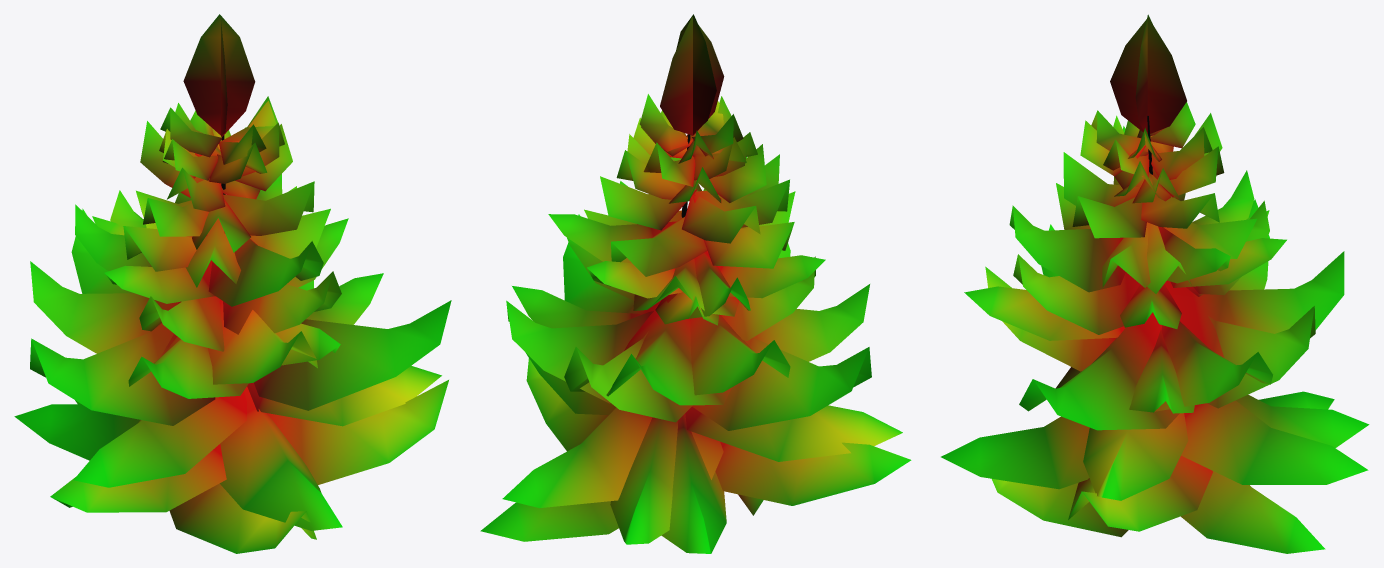
The model's file is Spruce_Small_2_LOD_1.fbx.
3 views of the same model, side by side, from view 1: azimuth 30°, elevation 25°; view 2: azimuth 150°, elevation 25°; view 3: azimuth 270°, elevation 25° (orthographic).
Visible parts, largest first — view 1: Spruce_Small_2_LOD_1; view 2: Spruce_Small_2_LOD_1; view 3: Spruce_Small_2_LOD_1.
Part boxes in pixels (x1,y1,x2,y2): Spruce_Small_2_LOD_1: (14, 14, 451, 553); Spruce_Small_2_LOD_1: (480, 14, 911, 553); Spruce_Small_2_LOD_1: (941, 14, 1369, 553).
Bounding box in the file's own units: 3.18 × 3.83 × 3.05.
